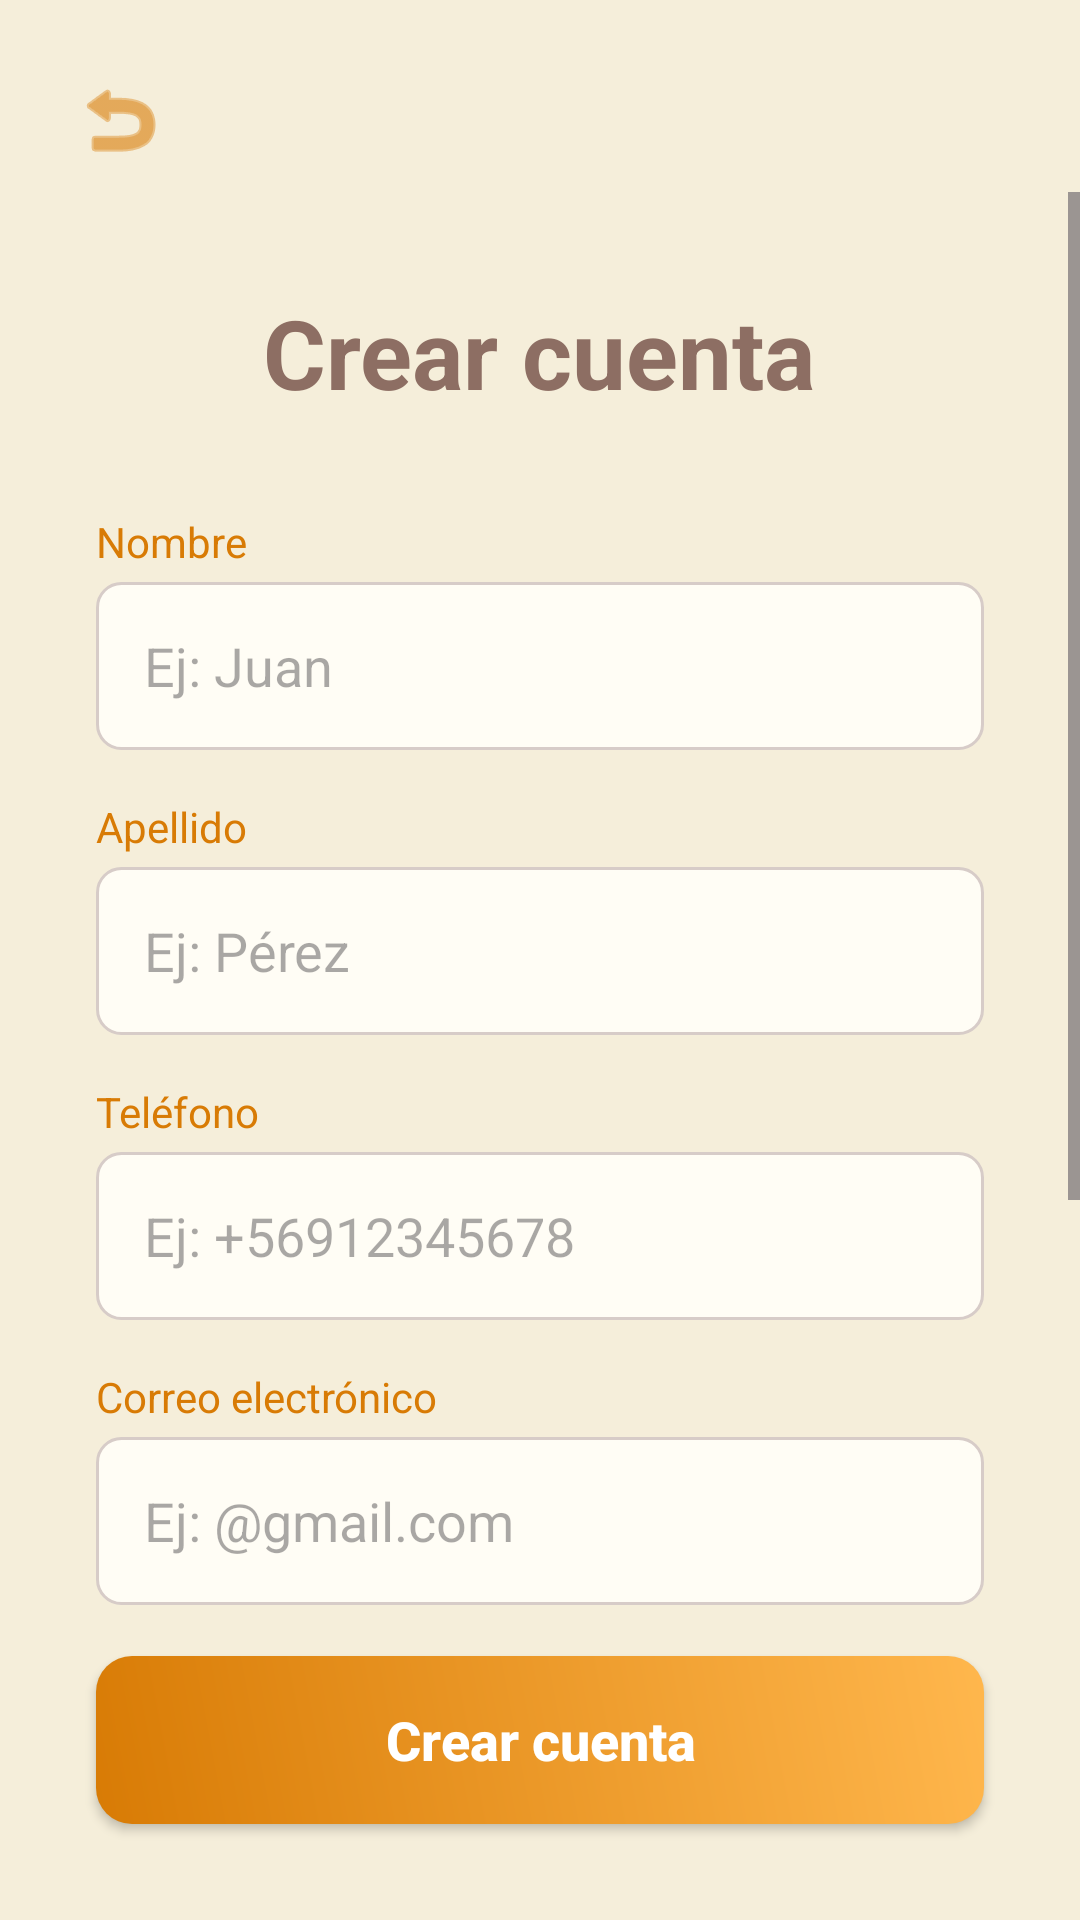

Screen size 1080 × 1920. Icon name, then its center in pixels as (x=x, y=y):
Volver al login: (x=121, y=120)
